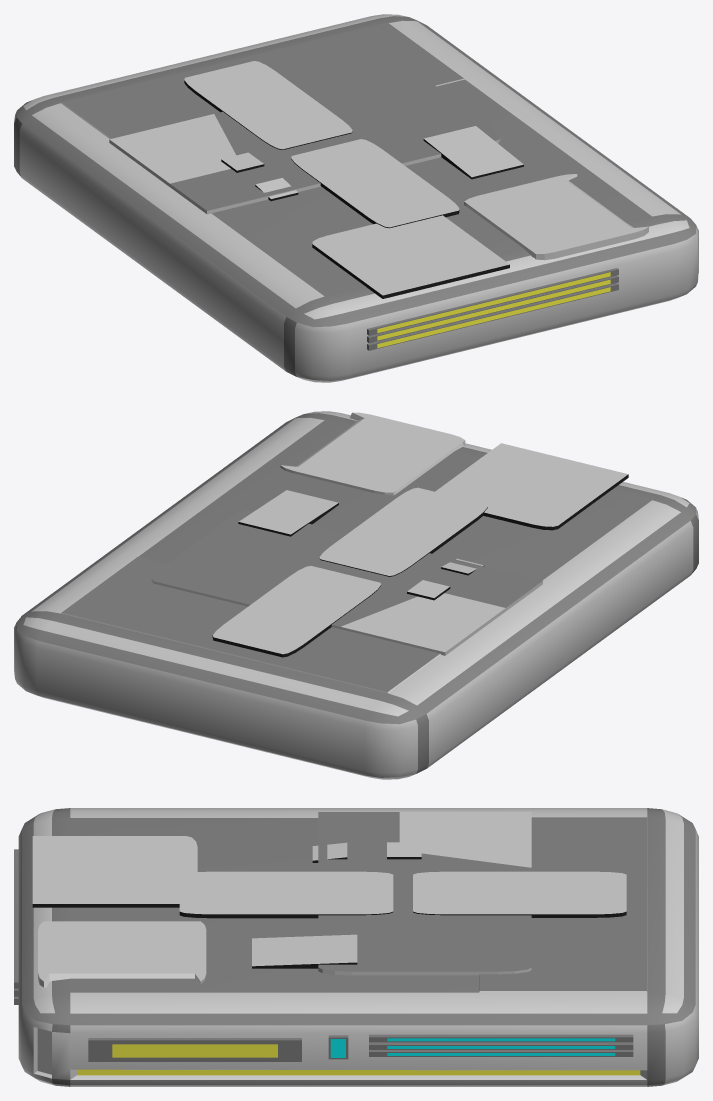
The model's file is Platform_003.fbx.
3 renders of one model, top to bottom at view 1: azimuth 30°, elevation 25°; view 2: azimuth 150°, elevation 25°; view 3: azimuth 270°, elevation 25°, orthographic. The views are drawn at different scales.
Parts seen in each view (by area): view 1: Platform_003; view 2: Platform_003; view 3: Platform_003.
Boxes of the visible parts, x1=… form: Platform_003: x1=14, y1=14, x2=698, y2=382; Platform_003: x1=14, y1=411, x2=698, y2=779; Platform_003: x1=14, y1=808, x2=698, y2=1086.
Size of the model in its own units: 553 by 106 by 725.
